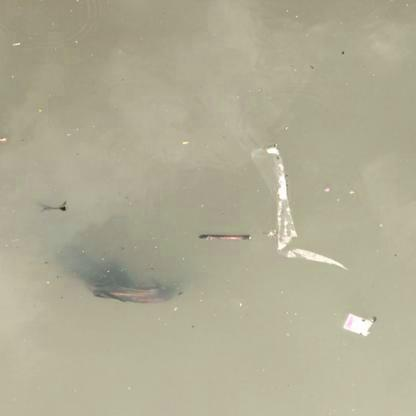Trash: (245, 138, 354, 284), (338, 308, 376, 340)
